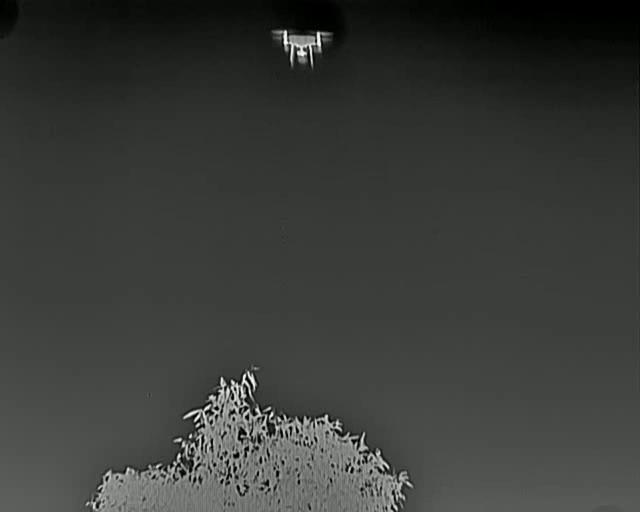DJI-Phantom: (269, 28, 337, 67)
